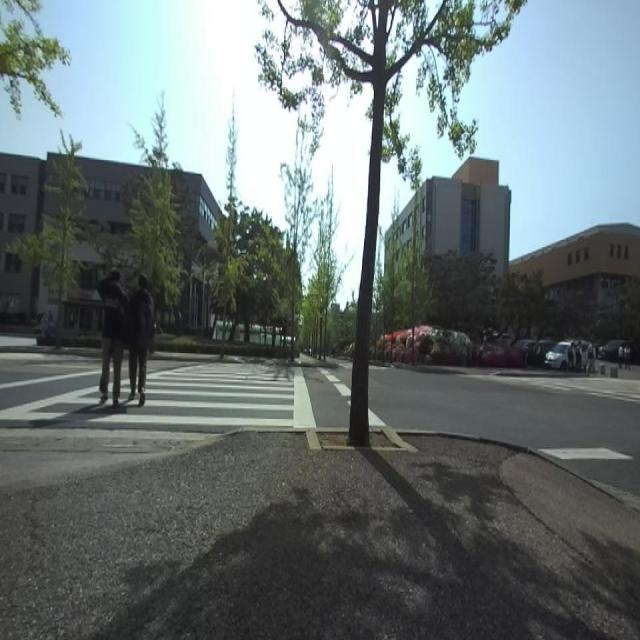sidewalk: (0, 431, 640, 638), (305, 427, 418, 452), (270, 428, 304, 434)
